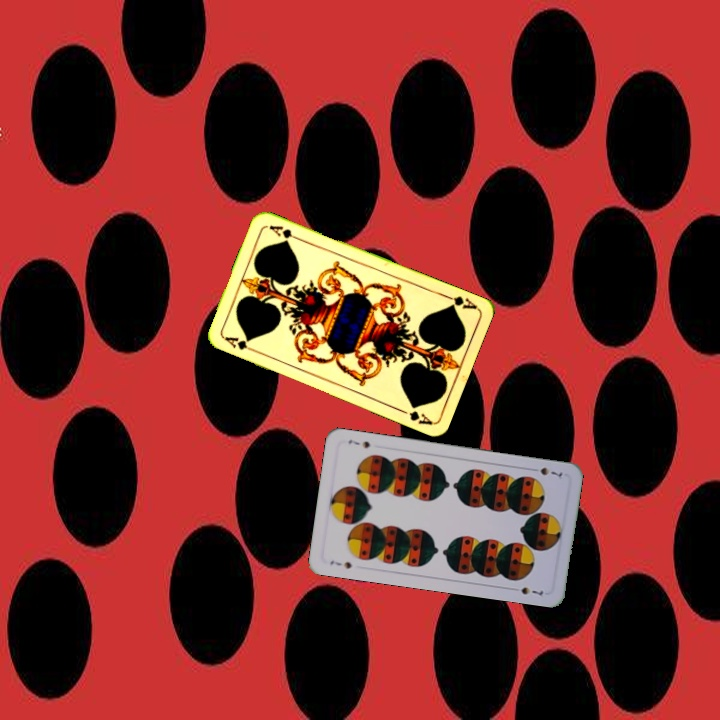GA: (220, 332, 259, 355), (440, 290, 479, 312)
S7: (527, 463, 567, 480), (326, 557, 354, 572)
